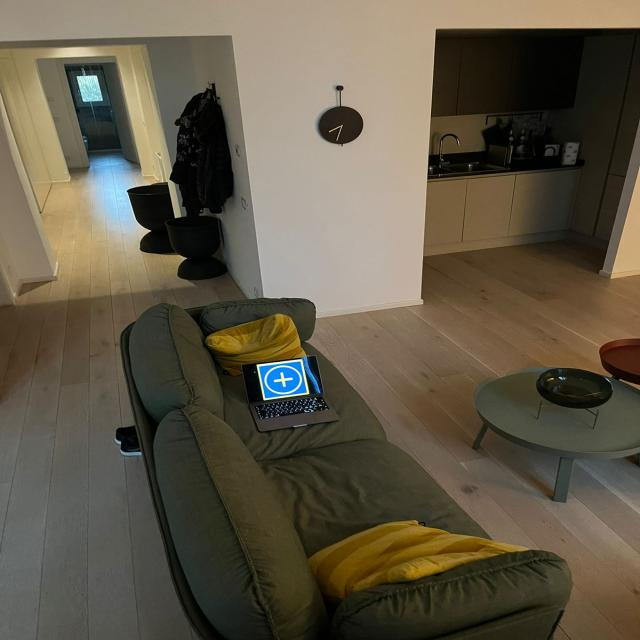Marker: (257, 359, 309, 401)
